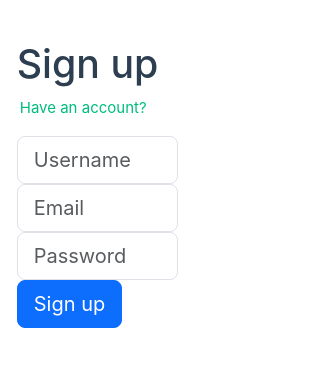
Test: SignUpPage › submitting invalid details › shows the API error messages
The image size is (320, 377).
Type "jane" into the field with placeholder "Username" at (98, 160), box [17,136,178,184]
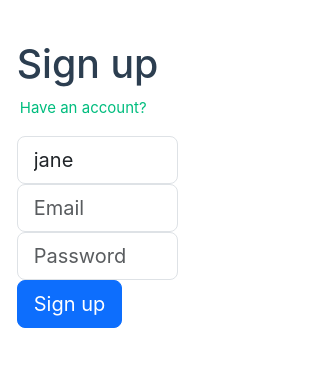
Type "jane@example.com" into the field with placeholder "Email" at (98, 208), box [17,184,178,232]
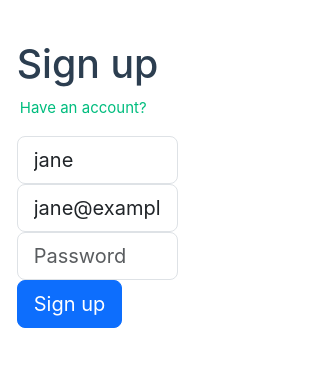
Type "secret" into the password field with placeholder "Password" at (98, 256), box [17,232,178,280]
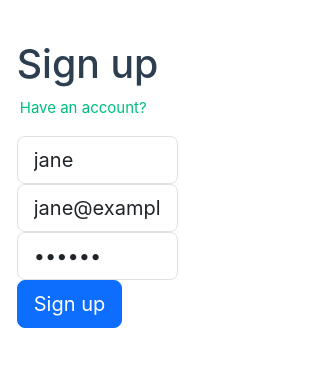
Submit the form, box [17,136,178,328]
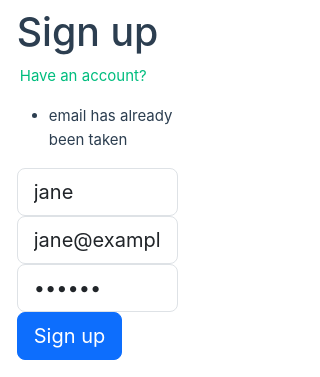
Expected: the list item "email has already been taken" is shown, [49,104,178,152]
